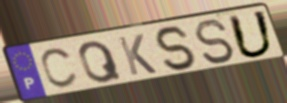C: (39, 46, 81, 91)
K: (115, 32, 159, 77)
Q: (77, 39, 125, 85)
S: (153, 24, 201, 73), (192, 18, 238, 66)
U: (226, 9, 277, 60)
